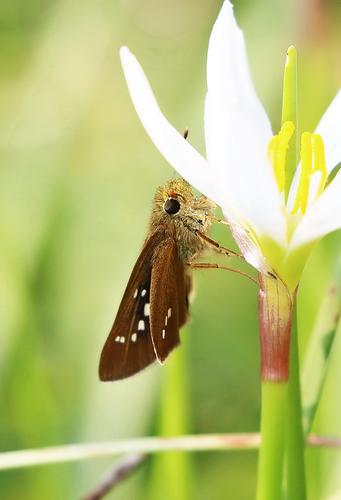Hesperiidae: (93, 129, 247, 386)
